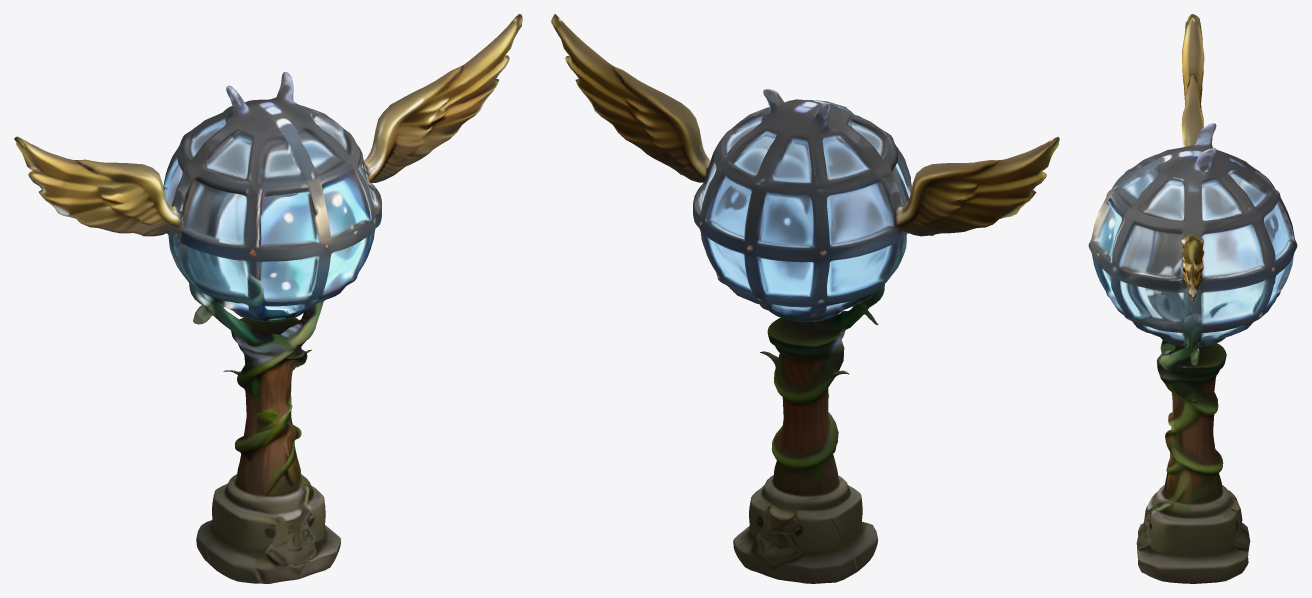
File: lod_basic_shaded.fbx
3 views of the same model, side by side, from view 1: azimuth 30°, elevation 25°; view 2: azimuth 150°, elevation 25°; view 3: azimuth 270°, elevation 25° (orthographic). The views are drawn at different scales.
Visible parts, largest first — view 1: model_LOD0; view 2: model_LOD0; view 3: model_LOD0.
Part boxes in pixels (x1,y1,x2,y2): model_LOD0: [14, 14, 522, 583]; model_LOD0: [551, 14, 1059, 583]; model_LOD0: [1088, 14, 1297, 583].
Size of what is drawn, in the model's own units: 189 by 174 by 75.03.
